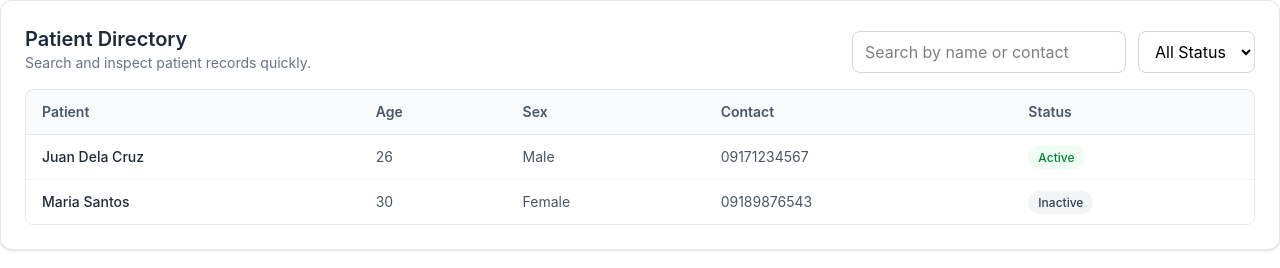
Test: PatientList Component › filters rows based on search input query
The width and height of the screenshot is (1280, 268).
Expected: the text "Juan Dela Cruz" is shown, [26,134,360,180]
// Type "Maria" into search box
In the field named "search patients": {"x": 989, "y": 52} [852,31,1126,73], type "Maria"
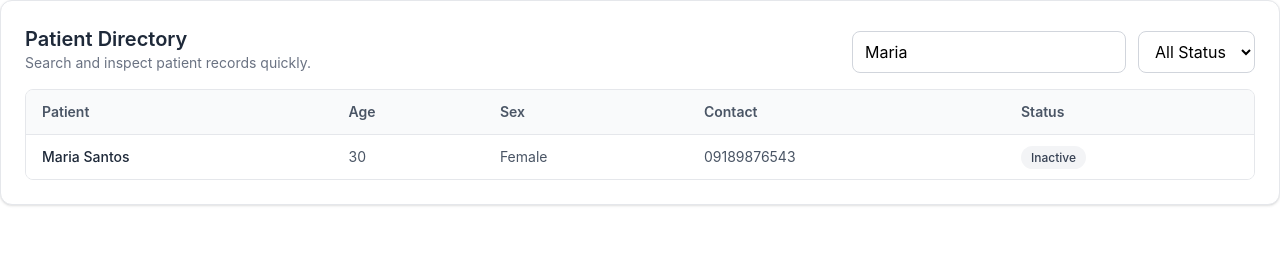
Expected: the text "Maria Santos" is shown, [26,134,332,179]
Expected: the text "Juan Dela Cruz" is gone
